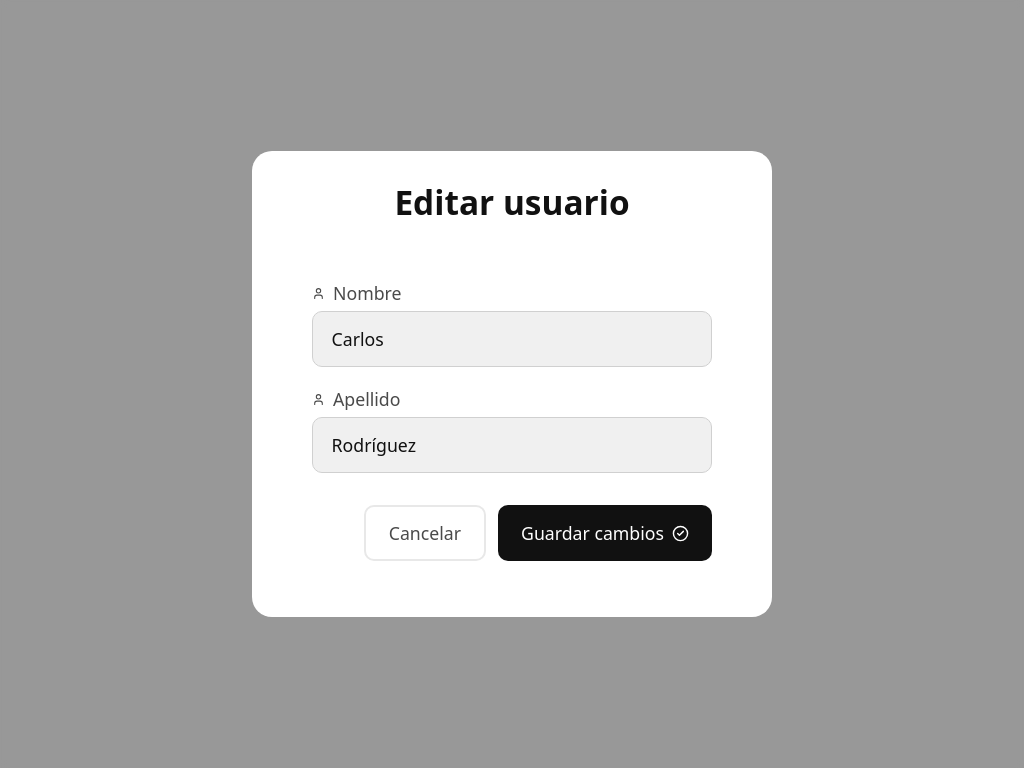
Test: EditUserForm › muestra error genérico si falla por otro motivo
The image size is (1024, 768).
Click the button "Guardar cambios" at (605, 533), box [498, 505, 712, 561]
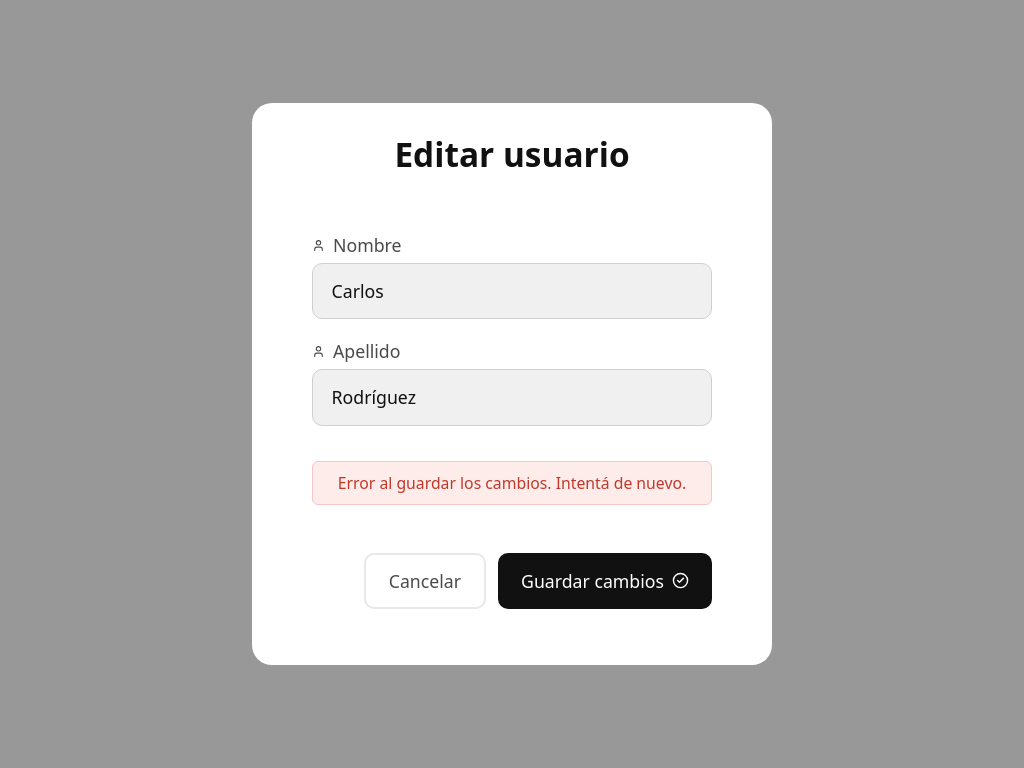
Check: the message "Error al guardar los cambios. Intentá de nuevo." is shown, box [312, 461, 712, 505]
